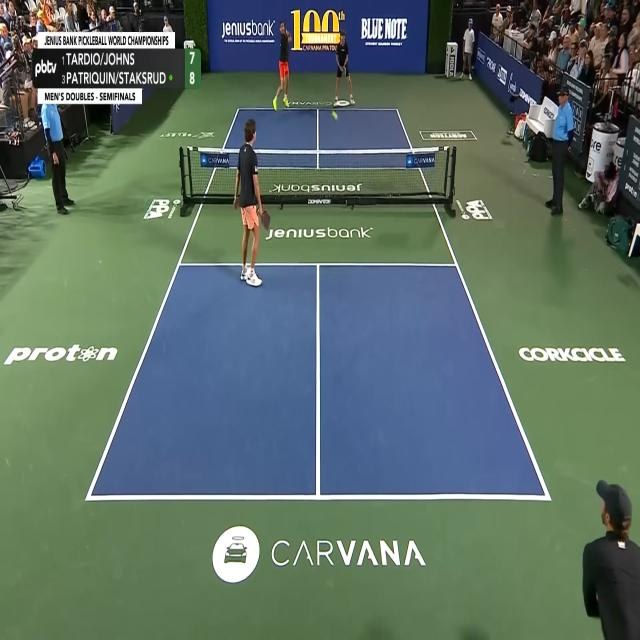ball: (330, 110, 338, 121)
